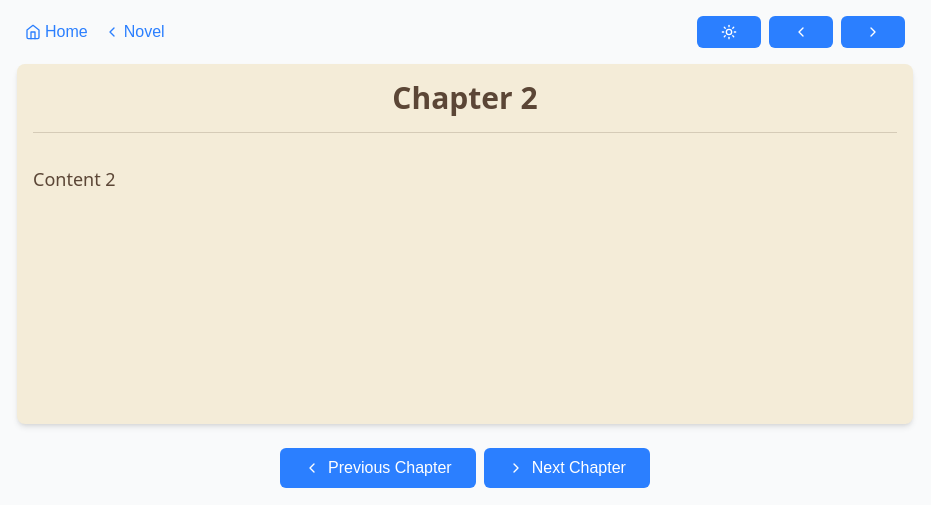
it: ChapterPage › loads previous chapter when clicking previous button
Check: the heading "Chapter 2" is shown, box 33,80 -> 897,133
Click the button "Previous Chapter". click: (378, 468)
box: 280,448 -> 476,488
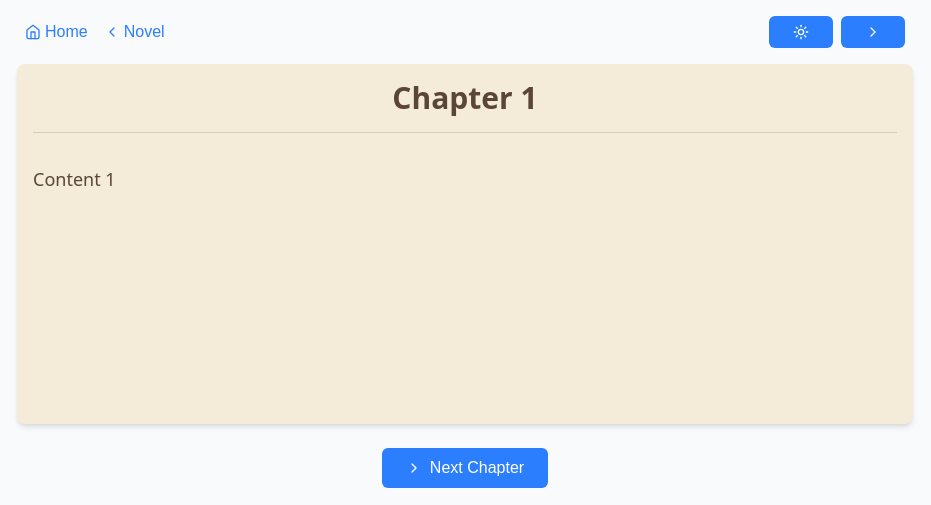
Check: the heading "Chapter 1" is shown, box 33,80 -> 897,133
